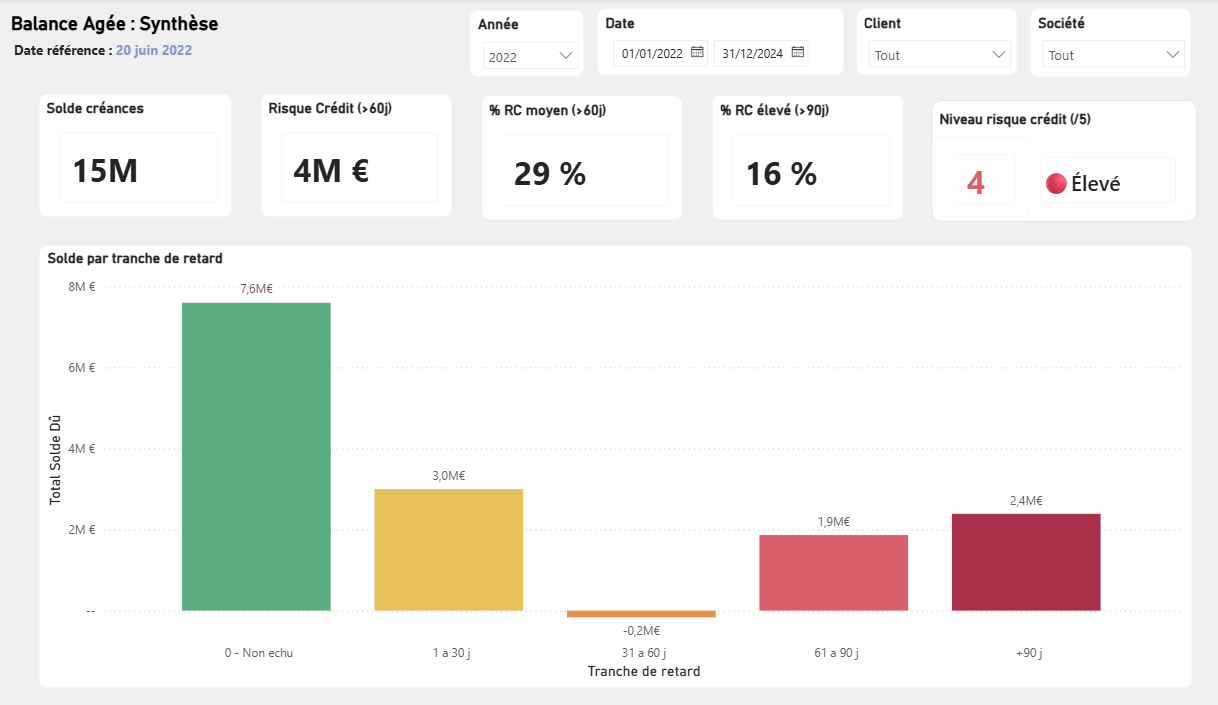

This screenshot's page, from the dashboard's own definition file:
{"tool":"powerbi","page":{"name":"Vue Synthétique","canvas":[1280,720],"ordinal":0},"visuals":[{"type":"slicer","title":"Date","fields":{"Values":["Dim_Date.Date"]},"box":[614.5,10.6,249.3,67.6],"z":0,"group":"g2"},{"type":"cardVisual","title":"    Solde créances","fields":{"Data":["Fact_BalanceAgee.Total Solde Dû"]},"box":[52.1,97.2,194.4,123.9],"z":0},{"type":"slicer","title":"Client","fields":{"Values":["Dim_Tiers.Tiers Libellé"]},"box":[877,10.6,162,67.6],"z":1000,"group":"g2"},{"type":"cardVisual","title":"% RC moyen (>60j)","fields":{"Data":["Fact_BalanceAgee.Risque crédit (% > 60j)"]},"box":[498.4,98.6,202.8,125.4],"z":1000},{"type":"slicer","title":"Société","fields":{"Values":["Dim_Societes_Perimetre.Libellé Société"]},"box":[1052.2,9.9,162,69],"z":2000,"group":"g2"},{"type":"clusteredColumnChart","title":"Solde par tranche de retard","fields":{"Y":["Fact_BalanceAgee.Total Solde Dû"],"Category":["Fact_BalanceAgee.Tranche de retard"]},"box":[51.6,250,1164.1,446.9],"z":2000},{"type":"textbox","box":[17.8,9.6,300,47.9],"z":3000},{"type":"slicer","title":"Année","fields":{"Values":["Dim_Date.Annee"]},"box":[485.9,11.6,115.4,67.3],"z":3000,"group":"g2"},{"type":"cardVisual","title":"% RC élevé (>90j)","fields":{"Data":["Fact_BalanceAgee.Risque crédit (% > 90j)"]},"box":[730.6,98.6,193,125.4],"z":4000},{"type":"cardVisual","title":"  Risque Crédit (>60j)","fields":{"Data":["Fact_BalanceAgee.Total risque crédit (>60j)"]},"box":[275.9,97.2,193,123.9],"z":5000},{"type":"group","id":"g1","title":"Groupe 1","box":[953.1,102.8,267.6,122.5],"z":6000},{"type":"shape","box":[953.1,102.8,267.9,123.1],"z":6500,"group":"g1"},{"type":"group","id":"g2","title":"Groupe 1","box":[485.9,9.9,728.2,69],"z":7000},{"type":"cardVisual","title":"Score Risque (/4)","fields":{"Data":["Fact_BalanceAgee.Niveau Risque Crédit"]},"box":[1044,142.7,169.8,78.2],"z":7000,"group":"g1"},{"type":"textbox","box":[21.1,38,225.4,31],"z":8001},{"type":"cardVisual","title":"Score Risque (/4)","fields":{"Data":["Fact_BalanceAgee.Score Risque Crédit"]},"box":[955.7,138.7,96,82.3],"z":9000,"group":"g1"},{"type":"textbox","box":[955.7,107.2,200,28.6],"z":12000,"group":"g1"}]}

Visuals, with their boxes in screenshot pixels (x1, y1, x2, y2), scaled from the page's 1280x720 canvas onto the 1218x705 screenshot:
"Date" slicer: left=585, top=10, right=822, bottom=77
"    Solde créances" cardVisual: left=50, top=95, right=235, bottom=216
"Client" slicer: left=835, top=10, right=989, bottom=77
"% RC moyen (>60j)" cardVisual: left=474, top=97, right=667, bottom=219
"Société" slicer: left=1001, top=10, right=1155, bottom=77
"Solde par tranche de retard" clusteredColumnChart: left=49, top=245, right=1157, bottom=682
textbox: left=17, top=9, right=302, bottom=56
"Année" slicer: left=462, top=11, right=572, bottom=77
"% RC élevé (>90j)" cardVisual: left=695, top=97, right=879, bottom=219
"  Risque Crédit (>60j)" cardVisual: left=263, top=95, right=446, bottom=216
"Groupe 1" group: left=907, top=101, right=1162, bottom=221
shape: left=907, top=101, right=1162, bottom=221
"Groupe 1" group: left=462, top=10, right=1155, bottom=77
"Score Risque (/4)" cardVisual: left=993, top=140, right=1155, bottom=216
textbox: left=20, top=37, right=235, bottom=68
"Score Risque (/4)" cardVisual: left=909, top=136, right=1001, bottom=216
textbox: left=909, top=105, right=1100, bottom=133
